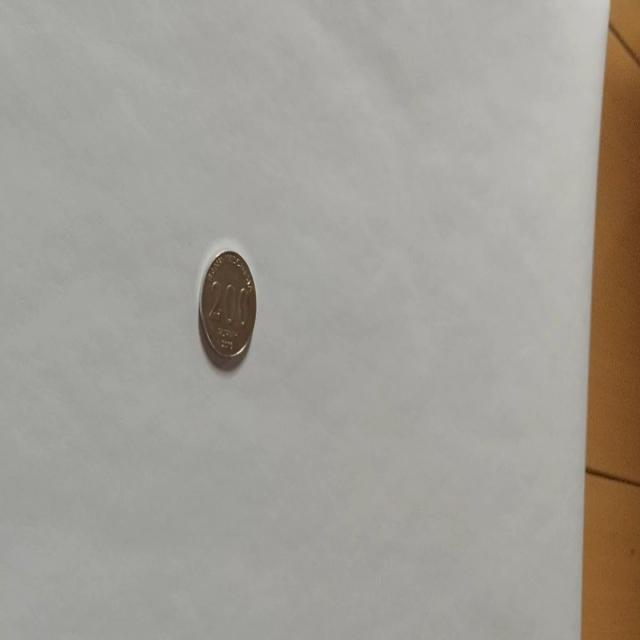dua ratus rupiah: (197, 248, 257, 364)
